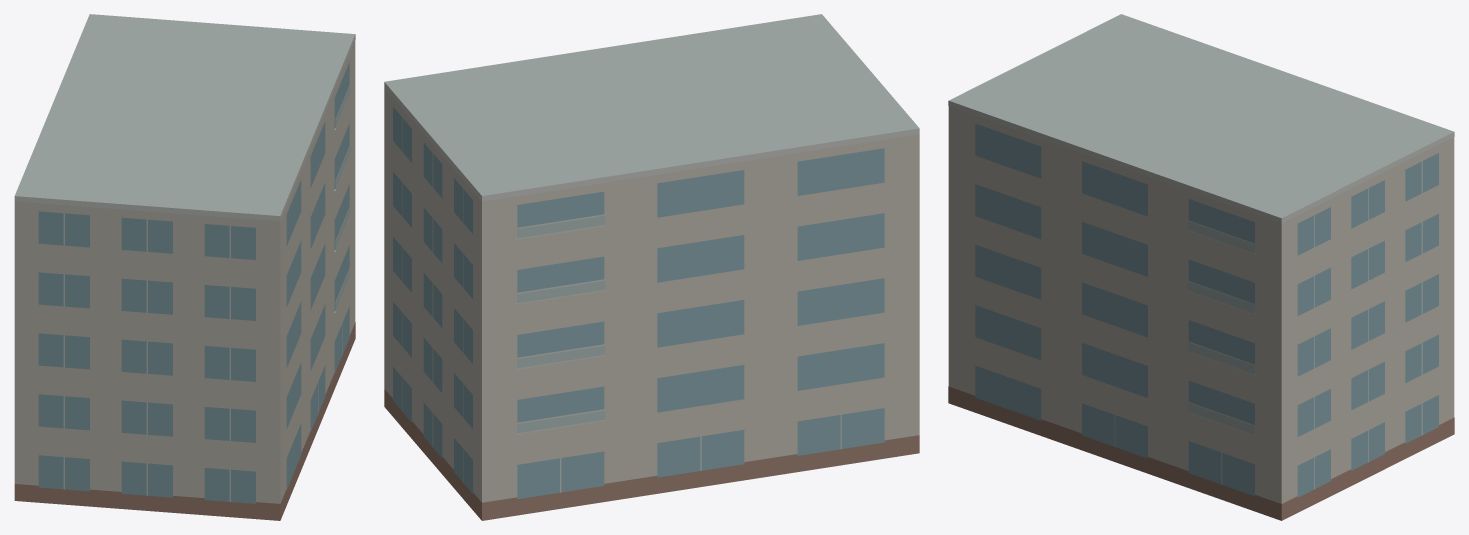
Rendered from survey-upis-32622494.glb.
The picture shows the model from 3 angles, left to right: view 1: azimuth 30°, elevation 25°; view 2: azimuth 150°, elevation 25°; view 3: azimuth 270°, elevation 25°; orthographic projection. The views are drawn at different scales.
Visible parts, largest first — view 1: survey-upis-32622494.tmp; view 2: survey-upis-32622494.tmp; view 3: survey-upis-32622494.tmp.
Boxes of the visible parts, x1,y1,x2,y2 form: survey-upis-32622494.tmp: (14,14,355,520); survey-upis-32622494.tmp: (384,14,919,520); survey-upis-32622494.tmp: (948,14,1454,520).
Size of the model in its own units: 20.13 by 13.9 by 21.06.
